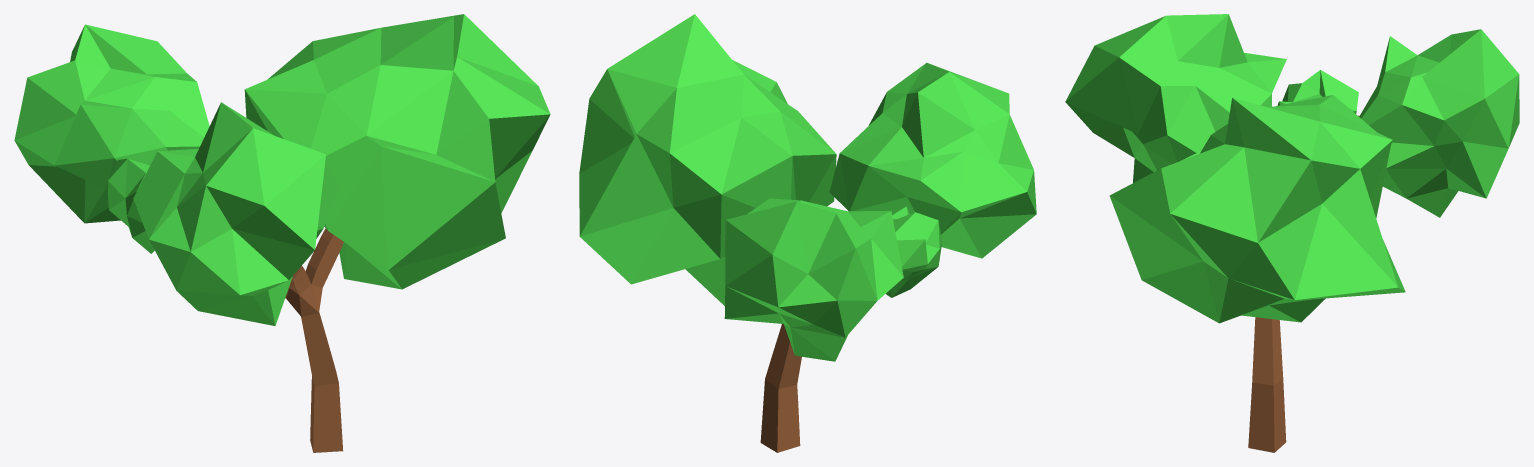
File: arbol1.fbx
The picture shows the model from 3 angles, left to right: view 1: azimuth 30°, elevation 25°; view 2: azimuth 150°, elevation 25°; view 3: azimuth 270°, elevation 25°; orthographic projection. The views are drawn at different scales.
Visible parts, largest first — view 1: Icosphere, Icosphere.002, Icosphere.001, Cube, Icosphere.004; view 2: Icosphere, Icosphere.002, Icosphere.001, Cube, Icosphere.004; view 3: Icosphere, Icosphere.002, Icosphere.001, Cube, Icosphere.004.
Boxes of the visible parts, x1,y1,x2,y2 form: Icosphere: (244, 14, 550, 289); Icosphere.002: (133, 102, 339, 325); Icosphere.001: (14, 24, 209, 223); Cube: (285, 228, 343, 452); Icosphere.004: (108, 158, 154, 253); Icosphere: (579, 14, 836, 305); Icosphere.002: (829, 63, 1036, 258); Icosphere.001: (724, 198, 903, 361); Cube: (760, 324, 801, 452); Icosphere.004: (886, 206, 942, 297); Icosphere: (1109, 95, 1405, 323); Icosphere.002: (1065, 14, 1286, 182); Icosphere.001: (1359, 29, 1519, 217); Cube: (1248, 115, 1359, 452); Icosphere.004: (1277, 70, 1358, 113).
Bounding box in the file's own units: 1911 × 1781 × 1840.
